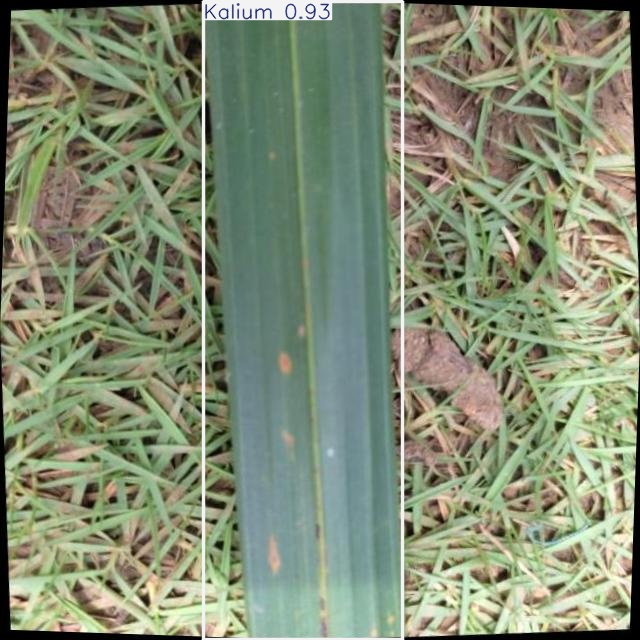Kalium: (203, 2, 403, 640)
